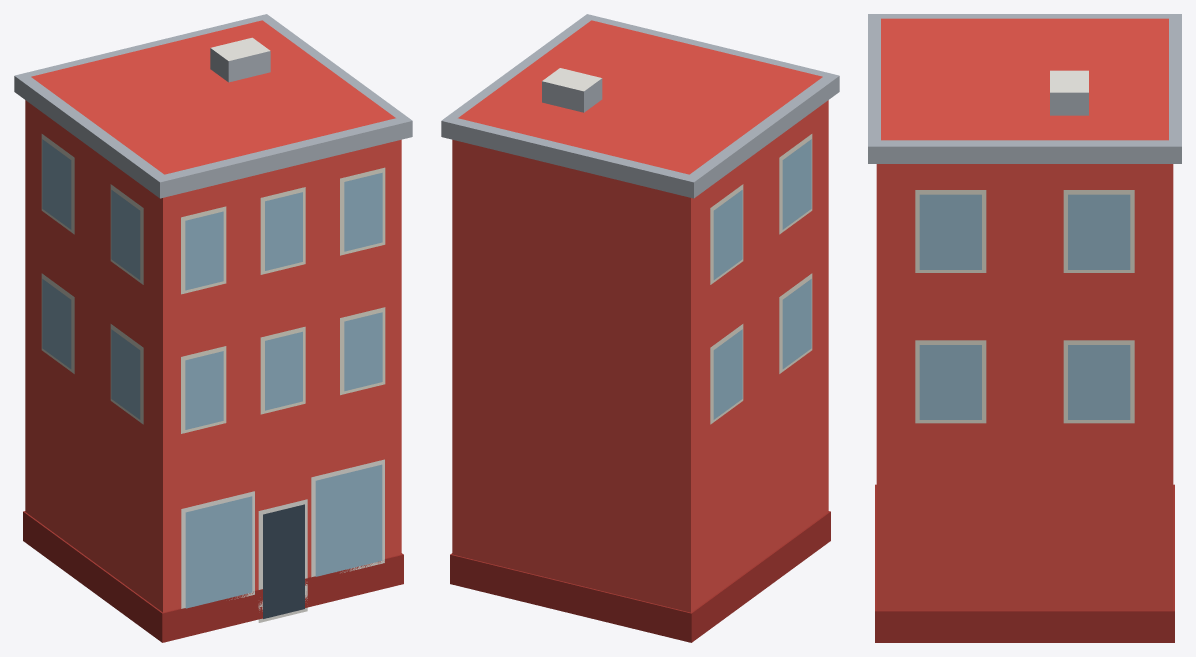
The model's file is B_ApartmentRed.fbx.
3 renders of one model, left to right at view 1: azimuth 30°, elevation 25°; view 2: azimuth 150°, elevation 25°; view 3: azimuth 270°, elevation 25°, orthographic. The views are drawn at different scales.
Visible parts, largest first — view 1: B_ApartmentRed.001; view 2: B_ApartmentRed.001; view 3: B_ApartmentRed.001.
Part boxes in pixels (left/top/right/bottom): B_ApartmentRed.001: left=14, top=14, right=412, bottom=642; B_ApartmentRed.001: left=441, top=14, right=839, bottom=642; B_ApartmentRed.001: left=868, top=14, right=1181, bottom=642.
Size of the model in its own units: 3.6 by 6.67 by 3.6.
